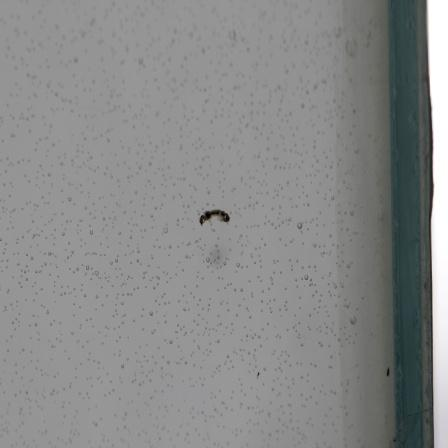Jentik-Nyamuk: (197, 202, 234, 229)
